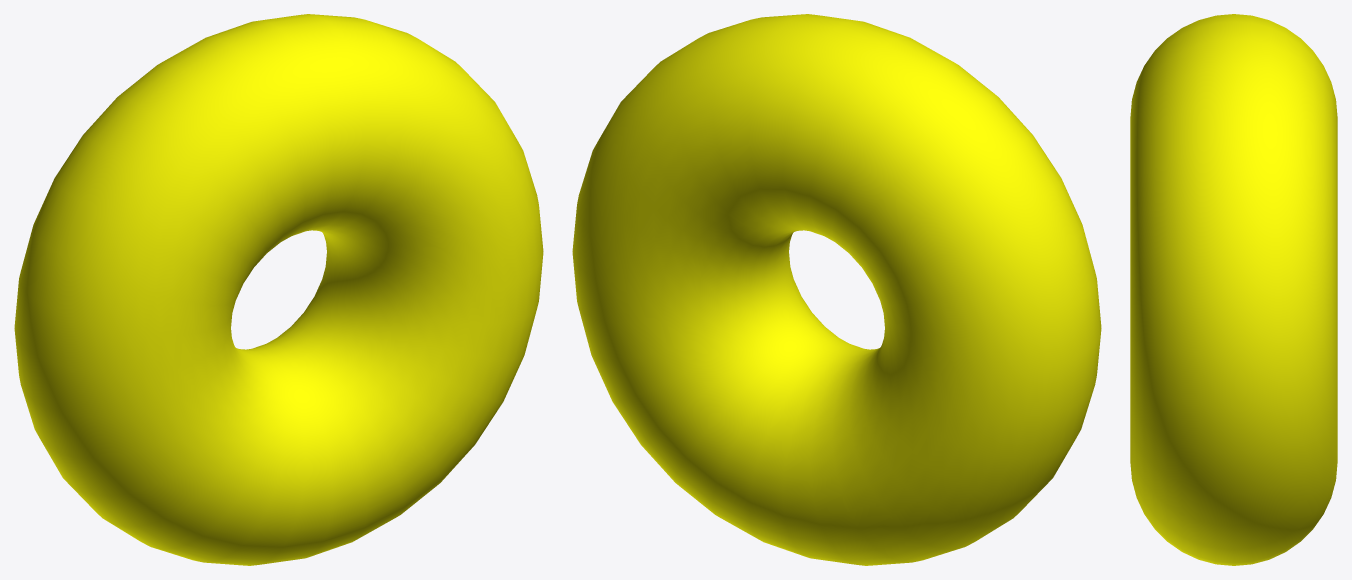
File: torusradpt5xpt15.glb
The picture shows the model from 3 angles, left to right: view 1: azimuth 30°, elevation 25°; view 2: azimuth 150°, elevation 25°; view 3: azimuth 270°, elevation 25°; orthographic projection. The views are drawn at different scales.
Bounding box in the file's own units: 1.6 × 1.6 × 0.6.
